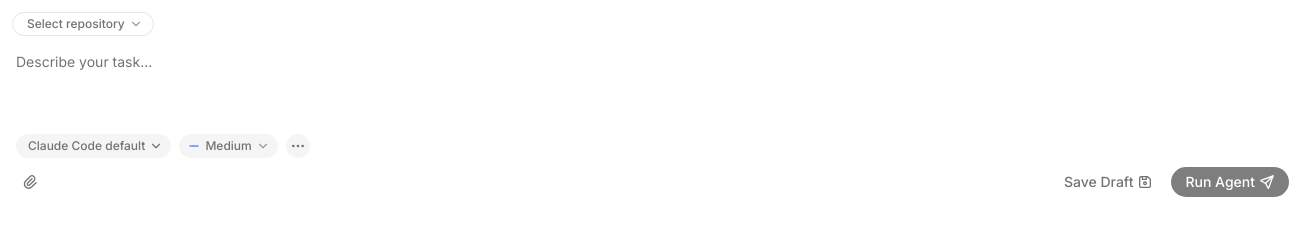
Scenario: IssueCreateForm › highlights the project select when running without a selected project
The image size is (1304, 246).
In the text box named "Body": (652, 88) [12,48,1292,128], type "Fix the new issue form validation."
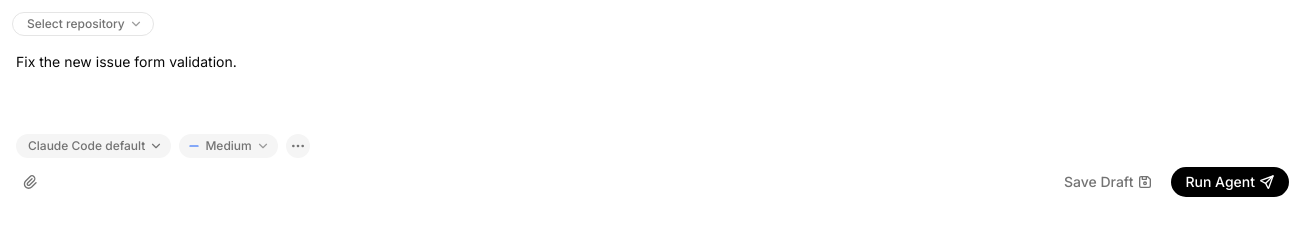
Click the button "Run Agent": (1230, 182) [1170,166,1290,198]
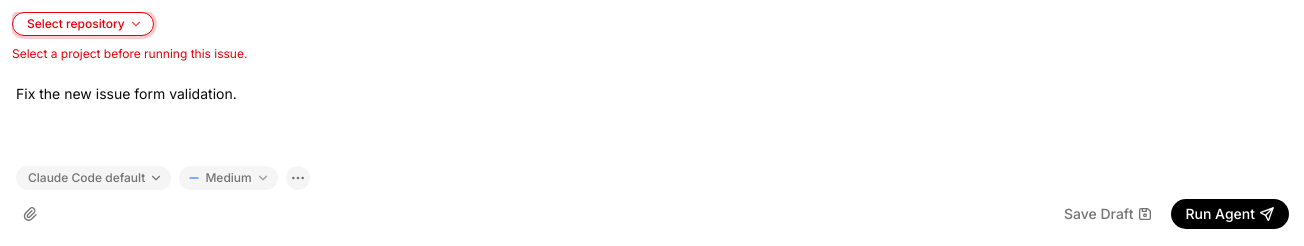
Now the text "Select a project before running this issue." is shown, box [12,46,247,61]
